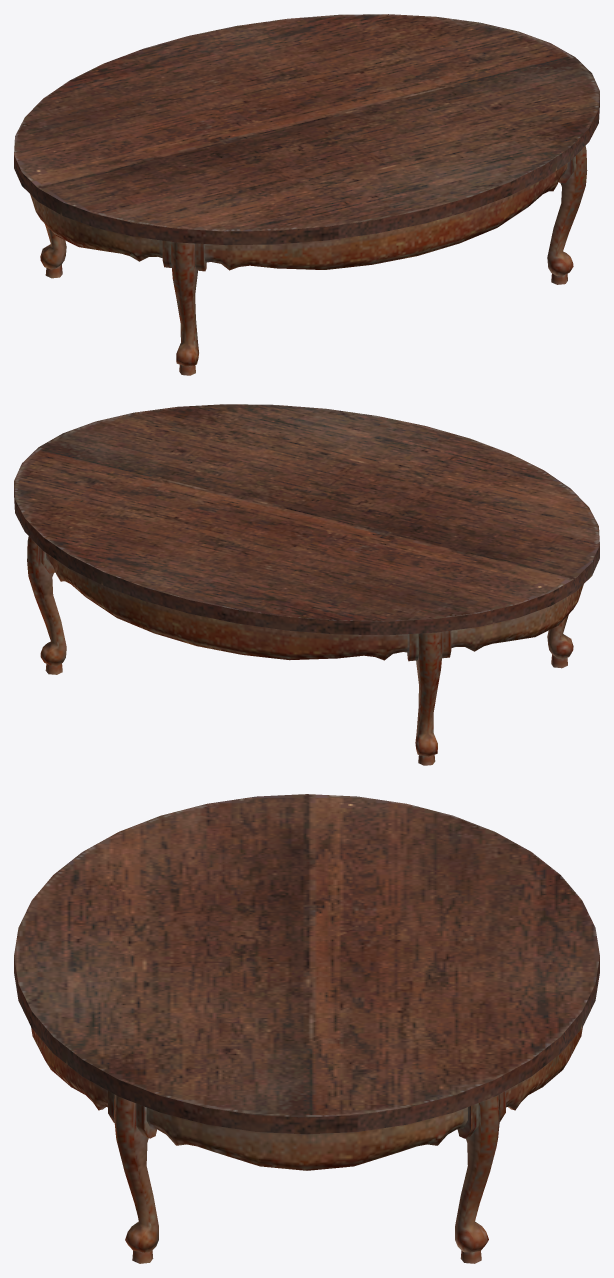
File: 040_MarbleTable.fbx
3 renders of one model, top to bottom at view 1: azimuth 30°, elevation 25°; view 2: azimuth 150°, elevation 25°; view 3: azimuth 270°, elevation 25°, orthographic. The views are drawn at different scales.
Visible parts, largest first — view 1: LOD_1_Group_1_Sub_1__sm30_040_MarbleTable01A_A_Mat, LOD_1_Group_0_Sub_1__sm30_040_MarbleTable01A_A_Mat, LOD_1_Group_6_Sub_1__sm30_040_MarbleTable01A_A_Mat, LOD_1_Group_3_Sub_1__sm30_040_MarbleTable01A_A_Mat, LOD_1_Group_12_Sub_1__sm30_040_MarbleTable01A_A_Mat, LOD_1_Group_5_Sub_1__sm30_040_MarbleTable01A_A_Mat; view 2: LOD_1_Group_1_Sub_1__sm30_040_MarbleTable01A_A_Mat, LOD_1_Group_0_Sub_1__sm30_040_MarbleTable01A_A_Mat, LOD_1_Group_12_Sub_1__sm30_040_MarbleTable01A_A_Mat, LOD_1_Group_9_Sub_1__sm30_040_MarbleTable01A_A_Mat, LOD_1_Group_6_Sub_1__sm30_040_MarbleTable01A_A_Mat, LOD_1_Group_11_Sub_1__sm30_040_MarbleTable01A_A_Mat; view 3: LOD_1_Group_1_Sub_1__sm30_040_MarbleTable01A_A_Mat, LOD_1_Group_0_Sub_1__sm30_040_MarbleTable01A_A_Mat, LOD_1_Group_3_Sub_1__sm30_040_MarbleTable01A_A_Mat, LOD_1_Group_9_Sub_1__sm30_040_MarbleTable01A_A_Mat.
Boxes of the visible parts, x1,y1,x2,y2 form: LOD_1_Group_1_Sub_1__sm30_040_MarbleTable01A_A_Mat: (14, 14, 599, 245); LOD_1_Group_0_Sub_1__sm30_040_MarbleTable01A_A_Mat: (30, 163, 567, 270); LOD_1_Group_6_Sub_1__sm30_040_MarbleTable01A_A_Mat: (171, 241, 198, 366); LOD_1_Group_3_Sub_1__sm30_040_MarbleTable01A_A_Mat: (547, 146, 587, 276); LOD_1_Group_12_Sub_1__sm30_040_MarbleTable01A_A_Mat: (40, 224, 66, 269); LOD_1_Group_5_Sub_1__sm30_040_MarbleTable01A_A_Mat: (162, 240, 206, 271); LOD_1_Group_1_Sub_1__sm30_040_MarbleTable01A_A_Mat: (14, 404, 599, 635); LOD_1_Group_0_Sub_1__sm30_040_MarbleTable01A_A_Mat: (46, 553, 583, 660); LOD_1_Group_12_Sub_1__sm30_040_MarbleTable01A_A_Mat: (415, 632, 442, 756); LOD_1_Group_9_Sub_1__sm30_040_MarbleTable01A_A_Mat: (27, 536, 66, 665); LOD_1_Group_6_Sub_1__sm30_040_MarbleTable01A_A_Mat: (547, 614, 573, 659); LOD_1_Group_11_Sub_1__sm30_040_MarbleTable01A_A_Mat: (407, 630, 451, 661); LOD_1_Group_1_Sub_1__sm30_040_MarbleTable01A_A_Mat: (14, 794, 599, 1134); LOD_1_Group_0_Sub_1__sm30_040_MarbleTable01A_A_Mat: (31, 1027, 582, 1170); LOD_1_Group_3_Sub_1__sm30_040_MarbleTable01A_A_Mat: (114, 1094, 158, 1252); LOD_1_Group_9_Sub_1__sm30_040_MarbleTable01A_A_Mat: (455, 1094, 500, 1252).
Bounding box in the file's own units: 2.29 × 0.6337 × 1.76.
